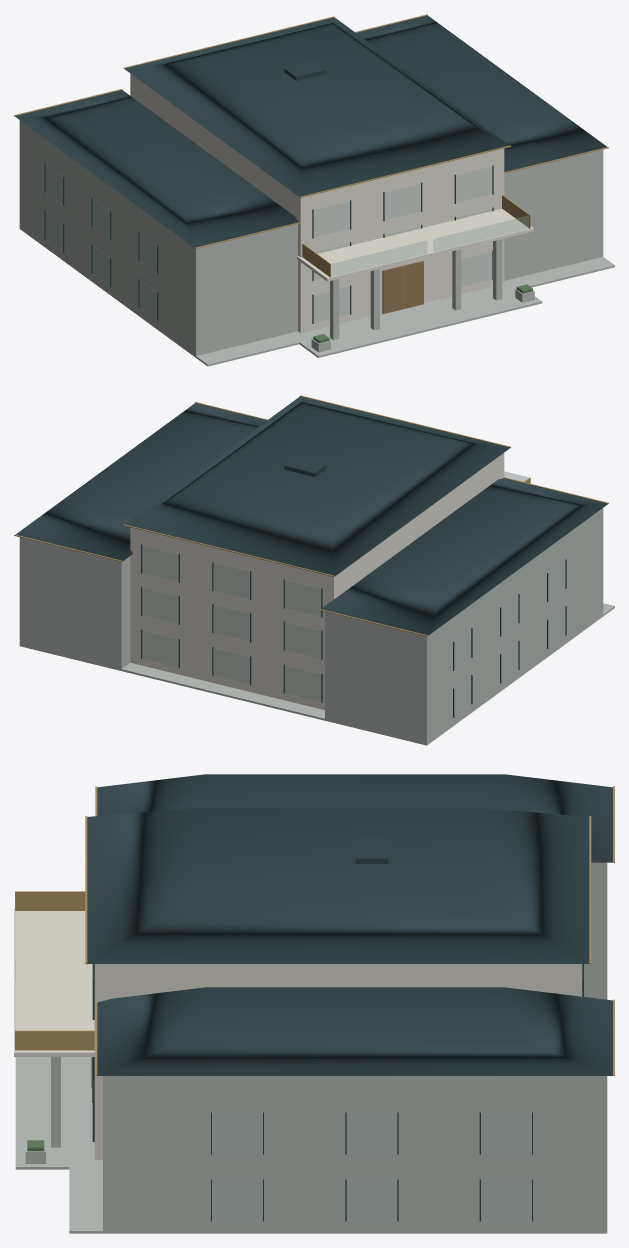
File: villa.glb
3 views of the same model, one above another, from view 1: azimuth 30°, elevation 25°; view 2: azimuth 150°, elevation 25°; view 3: azimuth 270°, elevation 25° (orthographic). The views are drawn at different scales.
Visible parts, largest first — view 1: GC-NK-VILLA-dark, GC-NK-VILLA-stone, GC-NK-VILLA-white, GC-NK-VILLA-glass, GC-NK-VILLA-gold, GC-NK-VILLA-wood; view 2: GC-NK-VILLA-dark, GC-NK-VILLA-stone, GC-NK-VILLA-white, GC-NK-VILLA-glass, GC-NK-VILLA-gold; view 3: GC-NK-VILLA-dark, GC-NK-VILLA-stone, GC-NK-VILLA-white, GC-NK-VILLA-glass, GC-NK-VILLA-gold.
Part boxes in pixels (x1,y1,x2,y2): GC-NK-VILLA-dark: [15, 15, 606, 323]; GC-NK-VILLA-stone: [19, 120, 614, 366]; GC-NK-VILLA-white: [130, 73, 533, 333]; GC-NK-VILLA-glass: [45, 165, 528, 322]; GC-NK-VILLA-gold: [14, 14, 608, 308]; GC-NK-VILLA-wood: [382, 261, 423, 314]; GC-NK-VILLA-dark: [16, 396, 607, 717]; GC-NK-VILLA-stone: [19, 508, 614, 745]; GC-NK-VILLA-white: [130, 453, 504, 709]; GC-NK-VILLA-glass: [142, 471, 565, 715]; GC-NK-VILLA-gold: [14, 395, 608, 636]; GC-NK-VILLA-dark: [87, 774, 612, 1221]; GC-NK-VILLA-stone: [15, 862, 607, 1233]; GC-NK-VILLA-white: [14, 908, 581, 1159]; GC-NK-VILLA-glass: [15, 892, 531, 1219]; GC-NK-VILLA-gold: [15, 786, 614, 1087].
Bounding box in the file's own units: 40.6 × 16 × 35.76.
